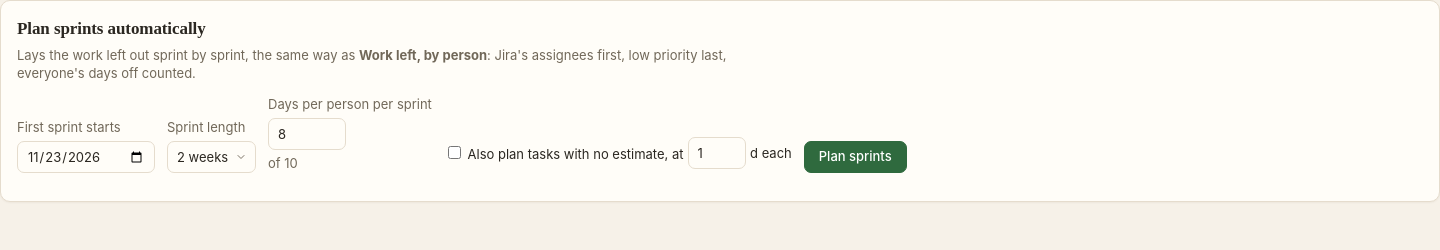
Test: AutoSprintPlanner › won't plan with more days per person than the sprint has
The width and height of the screenshot is (1440, 250).
Replace the text in the number field labelled "Days per person per sprint of 10" with "11" at (307, 134), box [268,118,346,150]
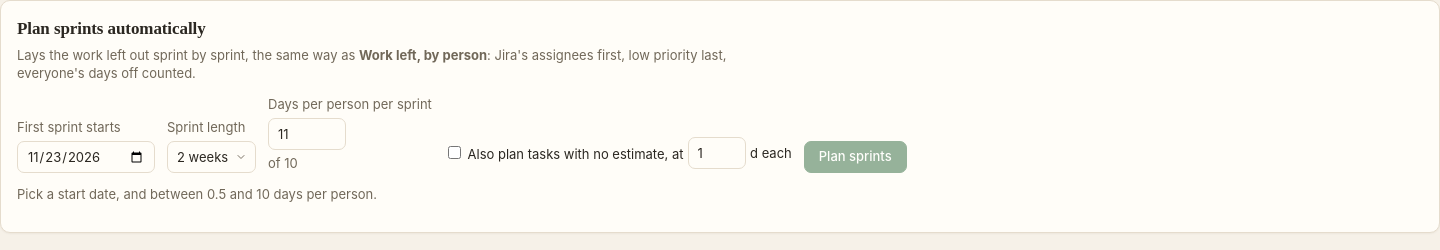
Check: the button "Plan sprints" is disabled, box [804,141,907,173]
Check: the message shows "between 0.5 and 10 days per person", box [17,186,377,202]
